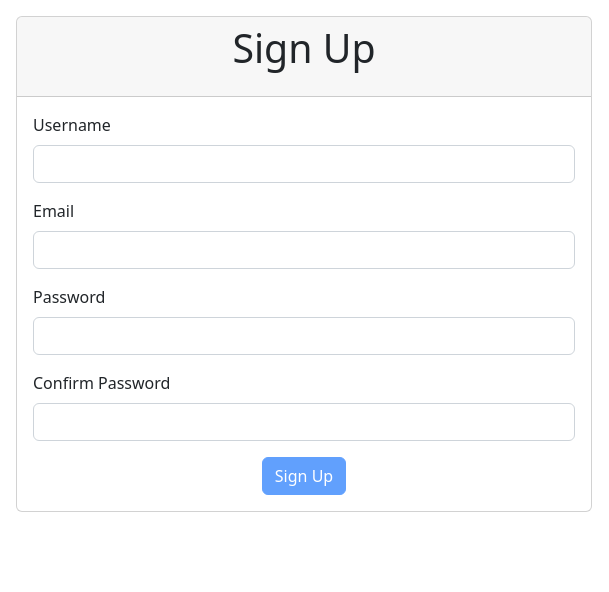
it: Sign Up Page › Interactions › displays email cannot be null for field email
This screenshot has width=609, height=592.
Type "gideonpeters" into the field labelled "Username".
click(304, 164); type("gideonpeters")  # box x1=33 y1=145 x2=575 y2=183
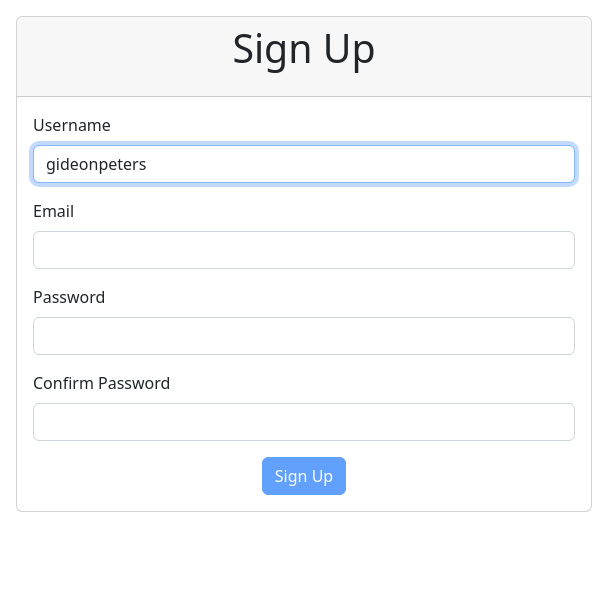
Type "gideonpeters85@gmail.com" into the field labelled "Email".
click(304, 250); type("gideonpeters85@gmail.com")  # box x1=33 y1=231 x2=575 y2=269
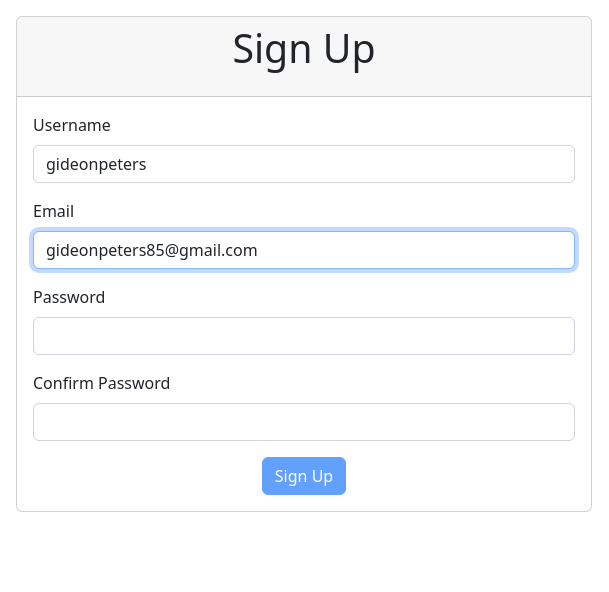
Type "P4ssword" into the password field labelled "Password".
click(304, 336); type("P4ssword")  # box x1=33 y1=317 x2=575 y2=355
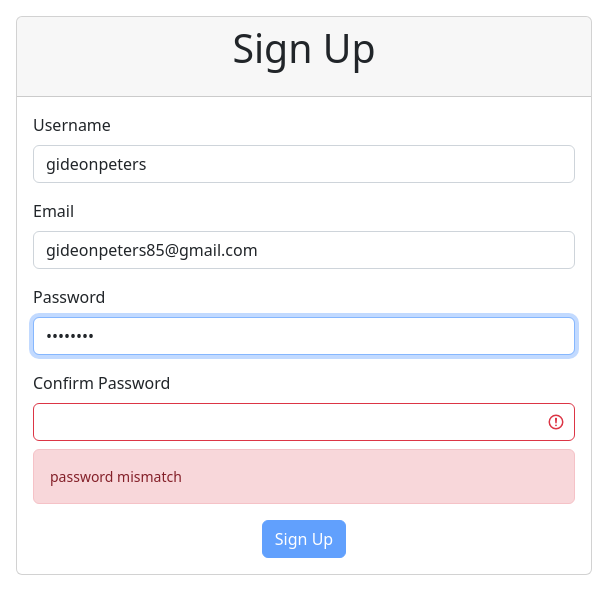
Type "P4ssword" into the password field labelled "Confirm Password".
click(304, 422); type("P4ssword")  # box x1=33 y1=403 x2=575 y2=441
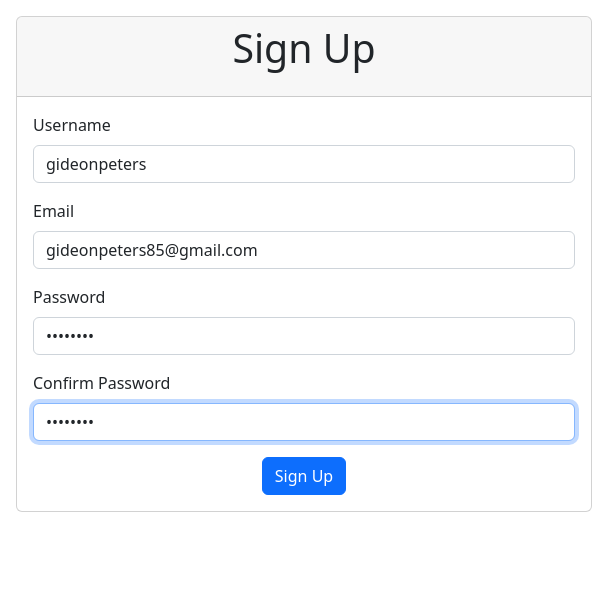
Click the button "Sign Up".
click(304, 476)  # box x1=262 y1=457 x2=346 y2=495
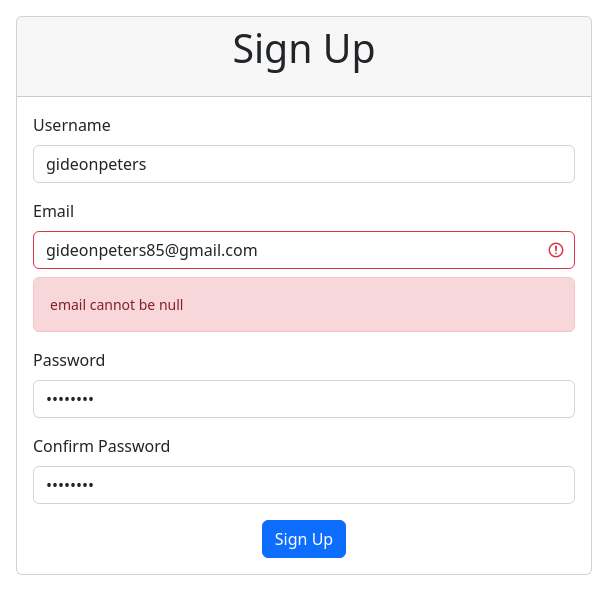
Expected: the text "email cannot be null" is shown, x1=33 y1=277 x2=575 y2=332
